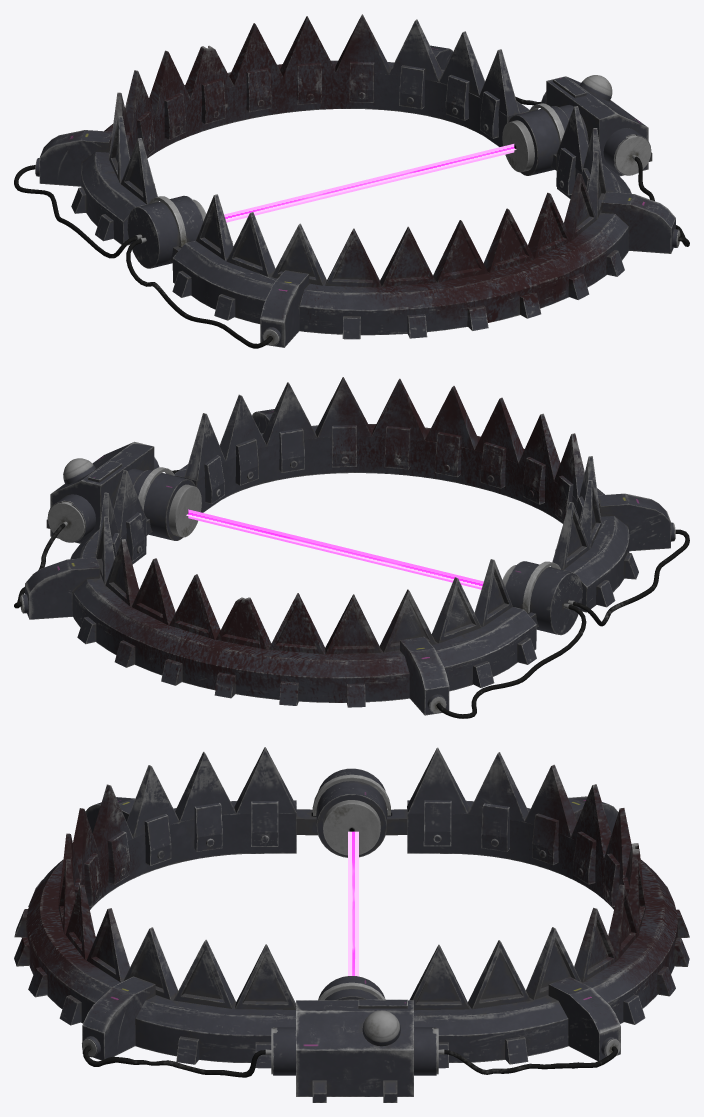
Rendered from Diplom texture 2.fbx.
The picture shows the model from 3 angles, top to bottom: view 1: azimuth 30°, elevation 25°; view 2: azimuth 150°, elevation 25°; view 3: azimuth 270°, elevation 25°; orthographic projection. The views are drawn at different scales.
Parts seen in each view (by area): view 1: Connector_Low, Laser.001; view 2: Connector_Low, Laser.001; view 3: Connector_Low, Laser.001.
Boxes of the visible parts, x1,y1,x2,y2 form: Connector_Low: (14, 14, 689, 348); Laser.001: (224, 144, 516, 222); Connector_Low: (14, 377, 689, 718); Laser.001: (186, 509, 483, 589); Connector_Low: (14, 747, 689, 1102); Laser.001: (348, 831, 358, 976).
Bounding box in the file's own units: 40.51 × 7.04 × 41.1.
2 materials, 2 textured.
